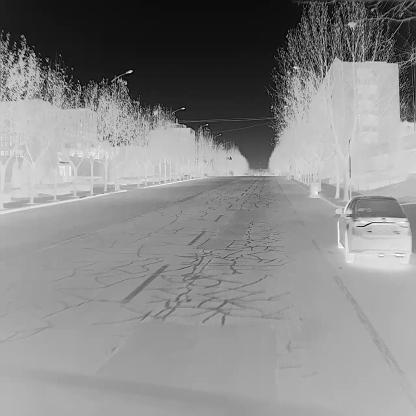car: (335, 194, 412, 263), (286, 171, 291, 180)
